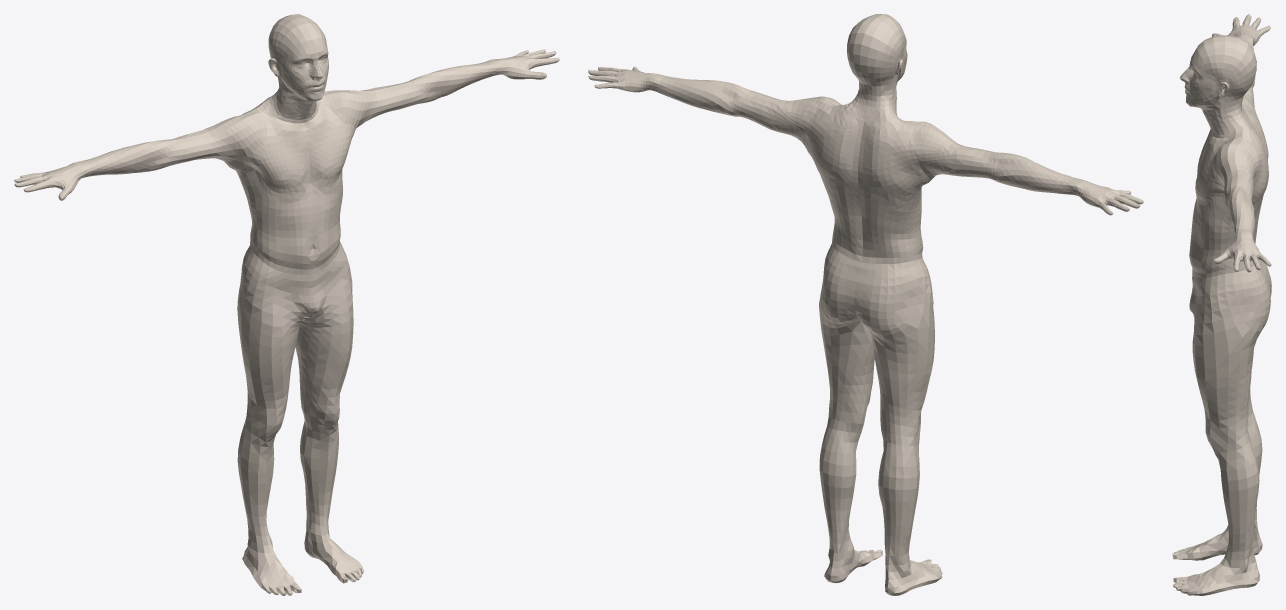
3 renders of one model, left to right at view 1: azimuth 30°, elevation 25°; view 2: azimuth 150°, elevation 25°; view 3: azimuth 270°, elevation 25°, orthographic. The views are drawn at different scales.
Parts seen in each view (by area): view 1: world; view 2: world; view 3: world.
Part boxes in pixels (left/top/right/bottom): world: left=14, top=14, right=559, bottom=595; world: left=588, top=14, right=1143, bottom=595; world: left=1172, top=14, right=1271, bottom=595.
Size of the model in its own units: 1.82 by 1.78 by 0.2998.
